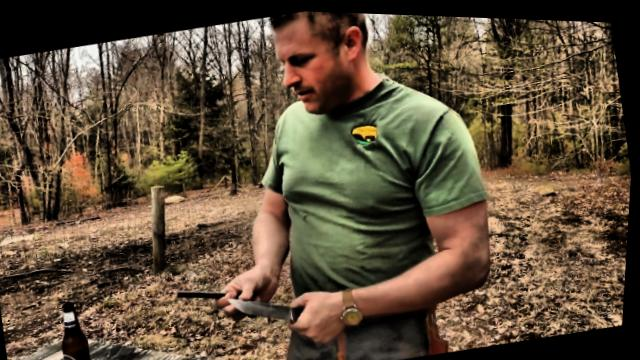knife: (218, 272, 345, 359)
